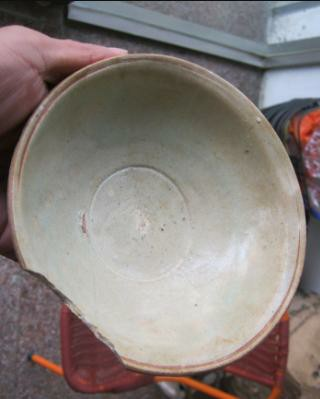ceramics: (10, 40, 314, 380)
